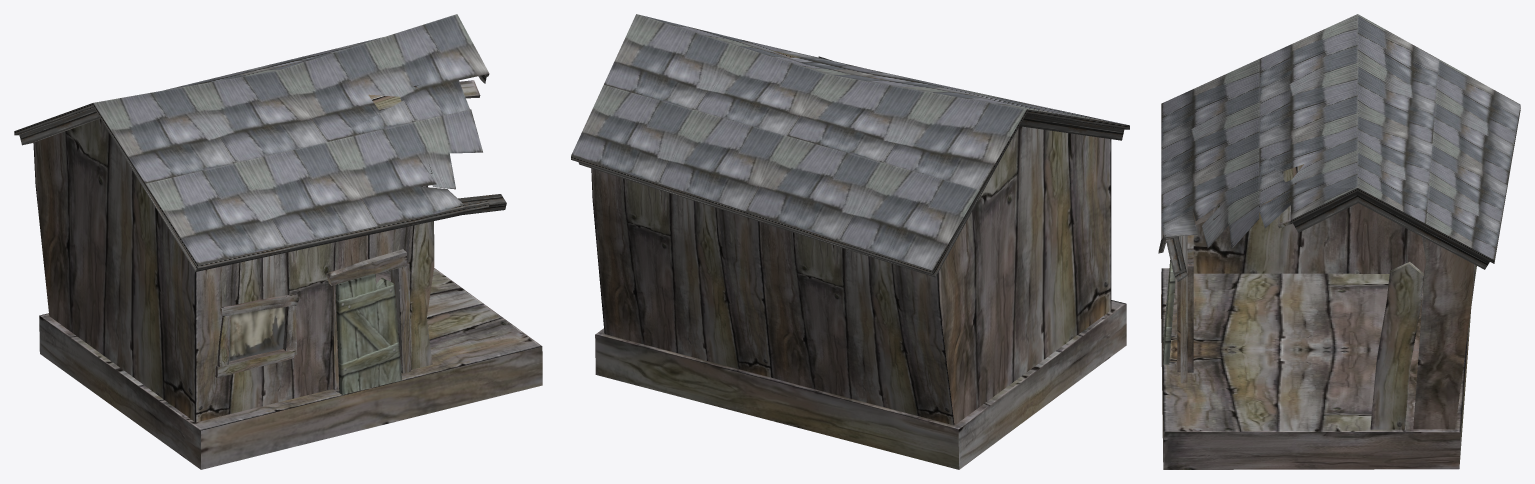
Rendered from shanty_leanto_B.fbx.
3 renders of one model, left to right at view 1: azimuth 30°, elevation 25°; view 2: azimuth 150°, elevation 25°; view 3: azimuth 270°, elevation 25°, orthographic. The views are drawn at different scales.
Parts seen in each view (by area): view 1: house_geom4, house_geom1, platform, house_geom6, door_mangled, house_geom2, drape, wood11, wood13, wood17, wood14, wood12 (+2 smaller); view 2: house_geom4, house_geom1, platform, house_geom2; view 3: house_geom1, platform, house_geom4, house_geom6, board_1, house_geom2, wood11, door_mangled.
Part boxes in pixels (box(x1,y1,x2,y2)): house_geom4: box(33, 119, 434, 422); house_geom1: box(93, 14, 485, 264); platform: box(39, 268, 542, 469); house_geom6: box(328, 14, 489, 225); door_mangled: box(335, 274, 401, 394); house_geom2: box(14, 74, 506, 271); drape: box(229, 307, 285, 361); wood11: box(390, 262, 411, 373); wood13: box(326, 249, 407, 285); wood17: box(215, 349, 295, 378); wood14: box(220, 293, 297, 316); wood12: box(332, 285, 339, 389); house_geom4: box(591, 126, 1111, 425); house_geom1: box(571, 14, 1125, 270); platform: box(595, 300, 1126, 469); house_geom2: box(571, 56, 1129, 277); house_geom1: box(1161, 14, 1520, 259); platform: box(1161, 268, 1470, 469); house_geom4: box(1180, 203, 1476, 429); house_geom6: box(1161, 149, 1357, 248); board_1: box(1370, 261, 1423, 429); house_geom2: box(1158, 106, 1520, 281); wood11: box(1177, 264, 1193, 372); door_mangled: box(1163, 260, 1175, 364).
Size of the model in its own units: 2564 by 1987 by 2259.
2 materials, 2 textured.
